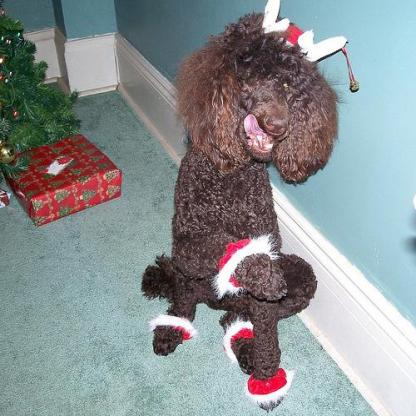standard_poodle: (140, 12, 338, 412)
